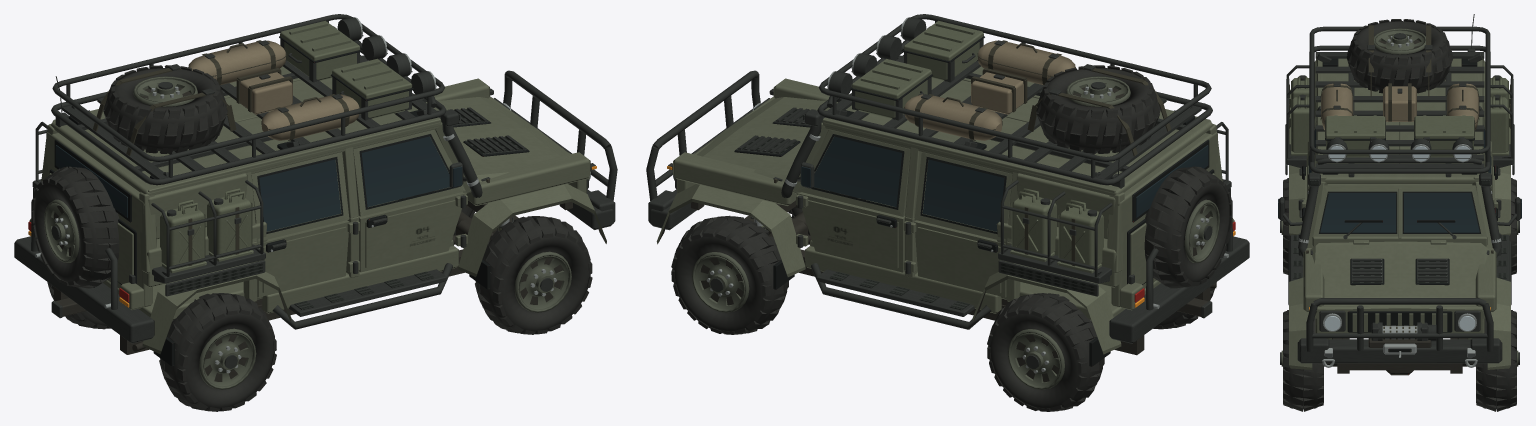
The model's file is Vehicle.glb.
The picture shows the model from 3 angles, left to right: view 1: azimuth 30°, elevation 25°; view 2: azimuth 150°, elevation 25°; view 3: azimuth 270°, elevation 25°; orthographic projection. The views are drawn at different scales.
Visible parts, largest first — view 1: Body_shell, Roof_rack, Door_Front_Right, Door_Rear_Right, Wheel_Front_Right, Wheel_Rear_Right, Spare_wheel_rear, Spare_wheel_roof, Hood, Rear_bumper_and_spare_carrier, Side_steps_and_mirrors, Fuel_can_rack_Right (+11 smaller); view 2: Body_shell, Roof_rack, Door_Front_Left, Door_Rear_Left, Wheel_Front_Left, Wheel_Rear_Left, Spare_wheel_rear, Spare_wheel_roof, Hood, Rear_bumper_and_spare_carrier, Side_steps_and_mirrors, Fuel_can_rack_Left (+11 smaller); view 3: Body_shell, Hood, Roof_rack, Front_bumper_winch_and_guard, Windscreen_and_wipers, Spare_wheel_roof, Front_fascia_and_lights, Wheel_Front_Left, Wheel_Front_Right, Roof_auxiliary_lights, Cargo_case_Left, Cargo_case_Right (+16 smaller).
Part boxes in pixels (x1,y1,x2,y2): Body_shell: (41,66,606,366); Roof_rack: (51,14,446,185); Door_Front_Right: (353,129,467,272); Door_Rear_Right: (251,152,360,297); Wheel_Front_Right: (475,216,592,334); Wheel_Rear_Right: (159,293,276,411); Spare_wheel_rear: (31,166,119,288); Spare_wheel_roof: (103,65,227,153); Hood: (426,97,589,182); Rear_bumper_and_spare_carrier: (14,200,154,343); Side_steps_and_mirrors: (272,162,466,329); Fuel_can_rack_Right: (151,180,265,296); Body_shell: (656,66,1222,366); Roof_rack: (817,14,1212,185); Door_Front_Left: (796,129,910,272); Door_Rear_Left: (903,152,1012,297); Wheel_Front_Left: (671,215,788,334); Wheel_Rear_Left: (987,293,1104,411); Spare_wheel_rear: (1144,166,1232,288); Spare_wheel_roof: (1036,65,1160,153); Hood: (674,97,837,183); Rear_bumper_and_spare_carrier: (1109,200,1249,343); Side_steps_and_mirrors: (797,162,991,329); Fuel_can_rack_Left: (998,180,1112,296); Body_shell: (1287,58,1512,369); Hood: (1306,240,1493,318); Roof_rack: (1309,25,1490,177); Front_bumper_winch_and_guard: (1297,298,1502,367); Windscreen_and_wipers: (1313,185,1486,239); Spare_wheel_roof: (1346,19,1453,93); Front_fascia_and_lights: (1309,305,1490,333); Wheel_Front_Left: (1476,310,1519,411); Wheel_Front_Right: (1280,310,1323,411); Roof_auxiliary_lights: (1317,138,1482,164); Cargo_case_Left: (1414,115,1474,157); Cargo_case_Right: (1325,115,1385,157).
Size of the model in its own units: 0.9904 by 0.5166 by 0.4731.
Materials: 1 (1 with a texture image).
